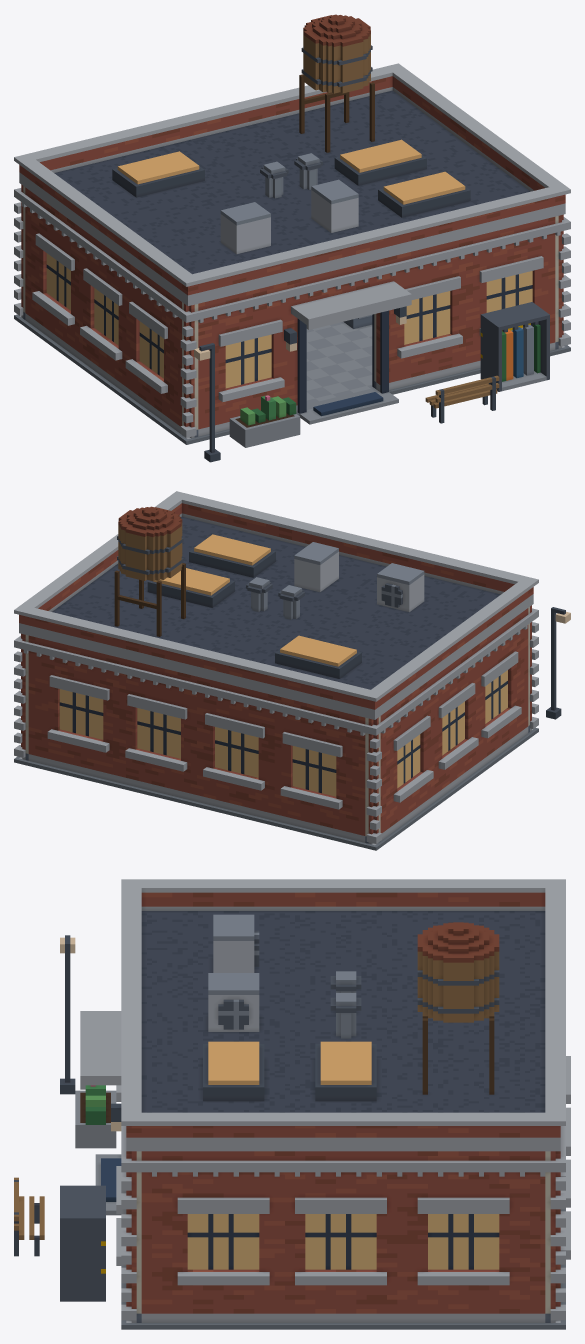
File: lab_e2_l1.glb
3 views of the same model, one above another, from view 1: azimuth 30°, elevation 25°; view 2: azimuth 150°, elevation 25°; view 3: azimuth 270°, elevation 25° (orthographic). The views are drawn at different scales.
Visible parts, largest first — view 1: CutRoof, CutPZ, Base, CutNX, CutNZ; view 2: CutRoof, CutNZ, Base, CutNX, CutPZ; view 3: CutRoof, CutPX, Base, CutPZ, CutNZ.
Part boxes in pixels (bbox=[...]): CutRoof: bbox=[14, 14, 570, 305]; CutPZ: bbox=[180, 214, 570, 408]; Base: bbox=[14, 286, 570, 462]; CutNX: bbox=[18, 187, 185, 401]; CutNZ: bbox=[14, 184, 25, 287]; CutRoof: bbox=[14, 491, 538, 719]; CutNZ: bbox=[14, 633, 381, 816]; Base: bbox=[14, 607, 570, 850]; CutNX: bbox=[377, 608, 534, 809]; CutPZ: bbox=[528, 605, 538, 702]; CutRoof: bbox=[121, 879, 565, 1151]; CutPX: bbox=[131, 1151, 555, 1285]; Base: bbox=[14, 935, 565, 1329]; CutPZ: bbox=[80, 1011, 141, 1283]; CutNZ: bbox=[545, 1056, 570, 1283].
Size of the model in its own units: 11.6 by 7.3 by 10.9.
